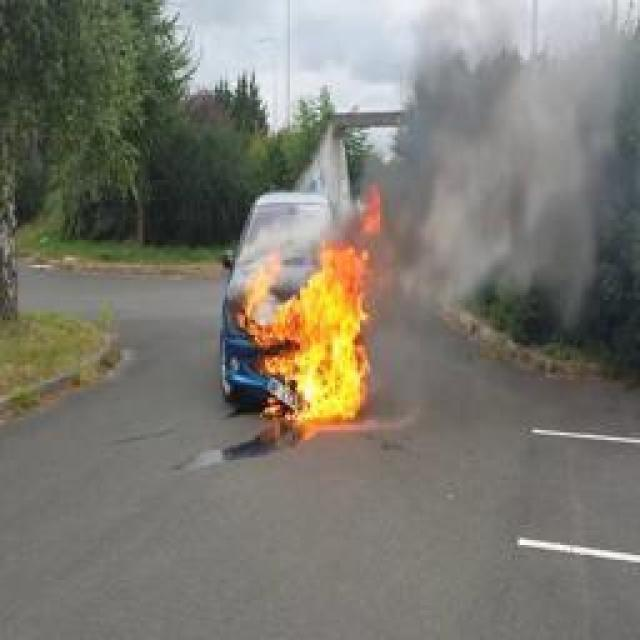Fire: (242, 241, 376, 424)
